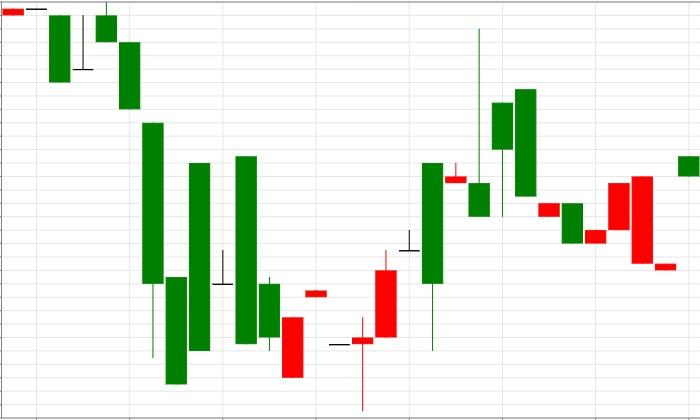shooting_star_fall: (353, 28, 491, 411)
